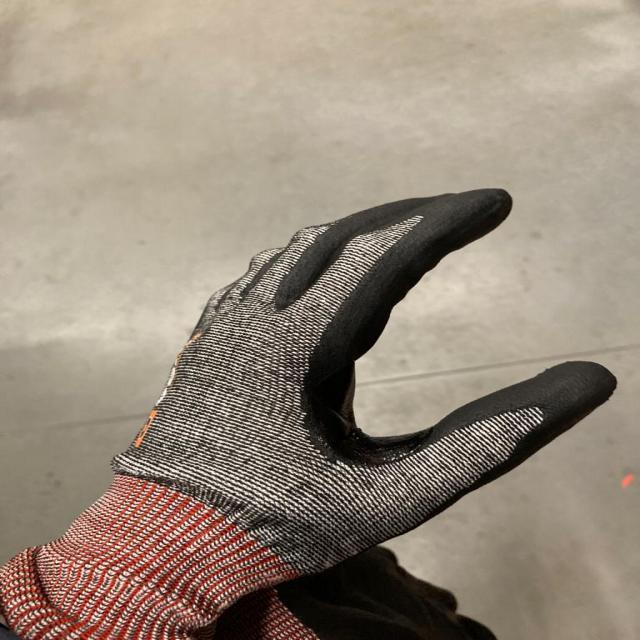gloved_hand: (59, 159, 635, 597)
